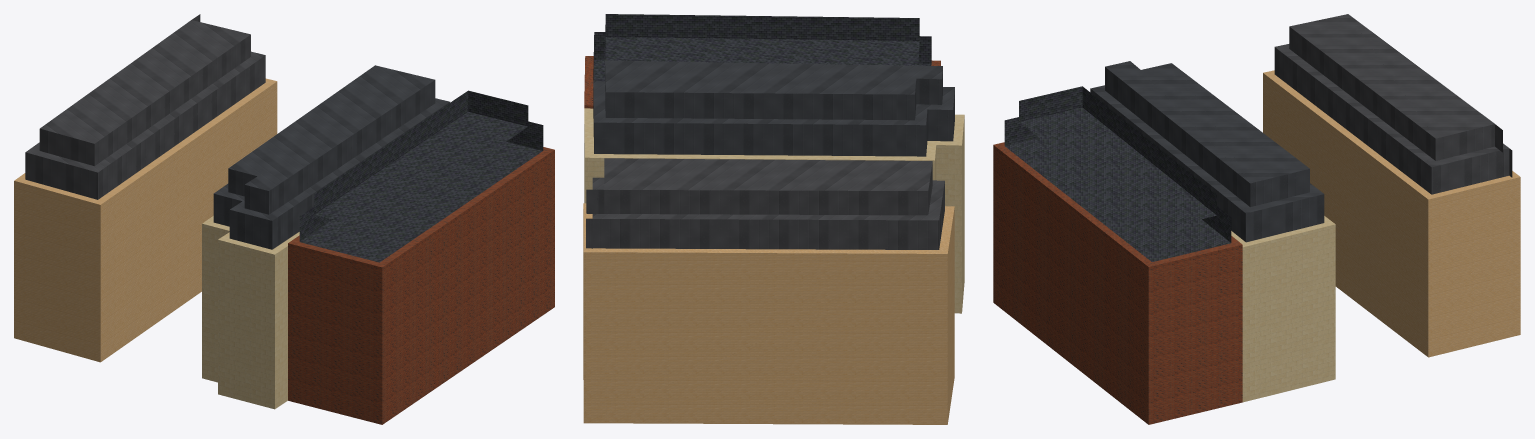
3 views of the same model, side by side, from view 1: azimuth 30°, elevation 25°; view 2: azimuth 150°, elevation 25°; view 3: azimuth 270°, elevation 25° (orthographic). The views are drawn at different scales.
Parts seen in each view (by area): view 1: lmbase_501637652, lmbase_501637650, lmbase_501637651, lmbase_501637650_roof_b, lmbase_501637651_roof_b, lmbase_501637652_roof_b, lmbase_501637650_roof_a, lmbase_501637652_roof_a, lmbase_501637651_roof_a; view 2: lmbase_501637650, lmbase_501637650_roof_b, lmbase_501637651_roof_b, lmbase_501637652_roof_b, lmbase_501637651_roof_a, lmbase_501637650_roof_a, lmbase_501637651, lmbase_501637652_roof_a, lmbase_501637652; view 3: lmbase_501637652, lmbase_501637650, lmbase_501637651, lmbase_501637650_roof_b, lmbase_501637651_roof_b, lmbase_501637652_roof_b, lmbase_501637650_roof_a, lmbase_501637652_roof_a, lmbase_501637651_roof_a.
Part boxes in pixels (box(x1,y1,x2,y2)): lmbase_501637652: box(288, 147, 554, 424); lmbase_501637650: box(14, 78, 277, 362); lmbase_501637651: box(202, 216, 299, 409); lmbase_501637650_roof_b: box(39, 14, 250, 165); lmbase_501637651_roof_b: box(228, 65, 435, 214); lmbase_501637652_roof_b: box(314, 90, 528, 230); lmbase_501637650_roof_a: box(25, 51, 265, 199); lmbase_501637652_roof_a: box(299, 121, 543, 262); lmbase_501637651_roof_a: box(213, 98, 450, 249); lmbase_501637650: box(583, 203, 954, 424); lmbase_501637650_roof_b: box(586, 158, 932, 215); lmbase_501637651_roof_b: box(605, 60, 942, 120); lmbase_501637652_roof_b: box(605, 14, 919, 65); lmbase_501637651_roof_a: box(593, 81, 954, 156); lmbase_501637650_roof_a: box(586, 177, 944, 249); lmbase_501637651: box(584, 108, 964, 313); lmbase_501637652_roof_a: box(593, 32, 931, 81); lmbase_501637652: box(584, 56, 940, 108); lmbase_501637652: box(993, 142, 1242, 424); lmbase_501637650: box(1263, 70, 1520, 357); lmbase_501637651: box(1231, 216, 1335, 402); lmbase_501637650_roof_b: box(1289, 14, 1502, 160); lmbase_501637651_roof_b: box(1105, 61, 1309, 206); lmbase_501637652_roof_b: box(1019, 86, 1216, 229); lmbase_501637650_roof_a: box(1274, 44, 1512, 194); lmbase_501637652_roof_a: box(1004, 117, 1231, 261); lmbase_501637651_roof_a: box(1090, 85, 1324, 242).
Size of the model in its own units: 33.12 by 15 by 34.51.
6 materials, 6 textured.
